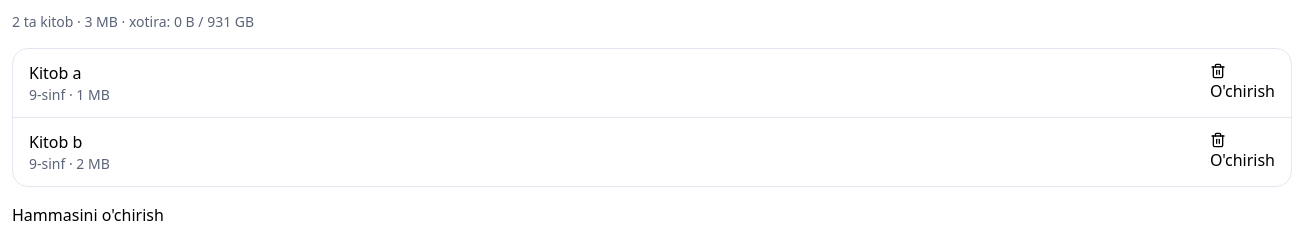
Test: OfflineManager › ro'yxat, umumiy hajm va bittasini o'chirish
Expected: the text with test id "offline-usage" shows "2 ta kitob", [12, 12, 118, 31]
Expected: the text with test id "offline-usage" shows "3 MB", [12, 12, 118, 31]
Click the button with aria-label "Kitob a ni oflayn xotiradan" at (1242, 83), box [1210, 63, 1275, 103]
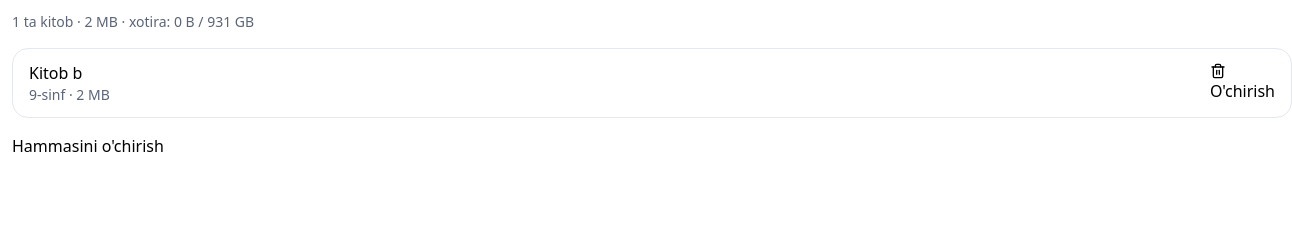
Result: the link "Kitob a" is gone
